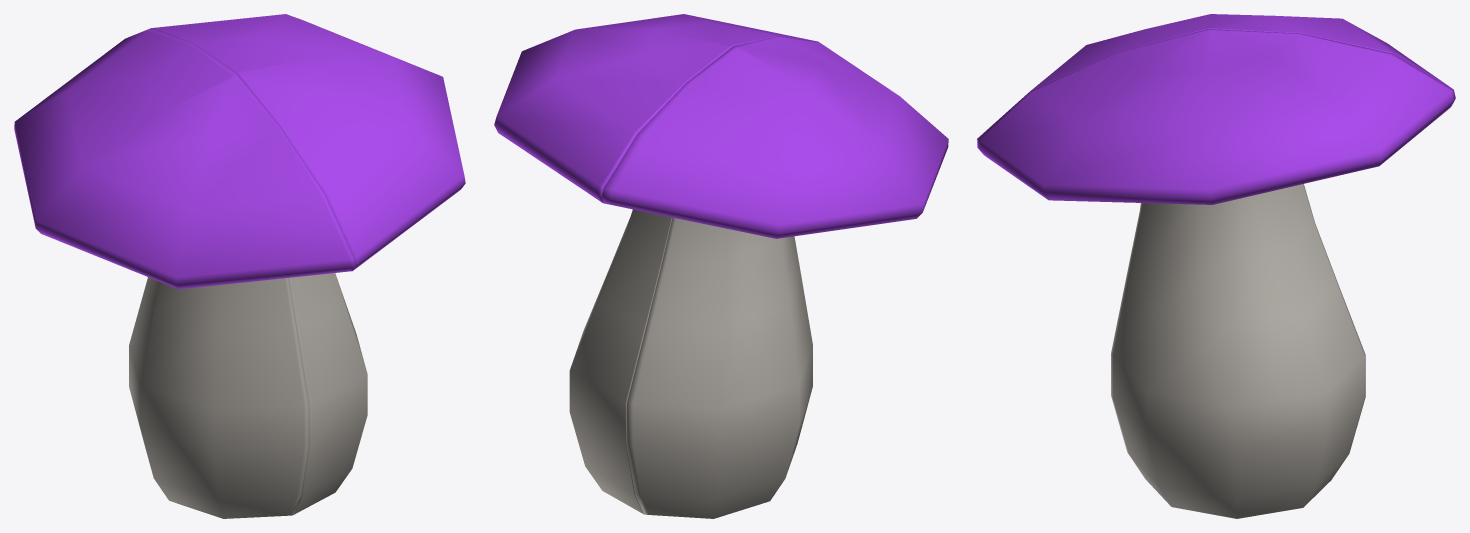
The model's file is SM_Mushroom_01a.fbx.
3 renders of one model, left to right at view 1: azimuth 30°, elevation 25°; view 2: azimuth 150°, elevation 25°; view 3: azimuth 270°, elevation 25°, orthographic. The views are drawn at different scales.
Parts seen in each view (by area): view 1: Mushroom_02, Mushroom_01; view 2: Mushroom_02, Mushroom_01; view 3: Mushroom_01, Mushroom_02.
Part boxes in pixels (<box>): Mushroom_02: <box>14,28,354,518</box>; Mushroom_01: <box>151,14,465,514</box>; Mushroom_02: <box>601,36,948,518</box>; Mushroom_01: <box>494,14,815,514</box>; Mushroom_01: <box>977,29,1455,518</box>; Mushroom_02: <box>1031,14,1451,90</box>.
Bounding box in the file's own units: 24.89 × 25.1 × 24.89.
